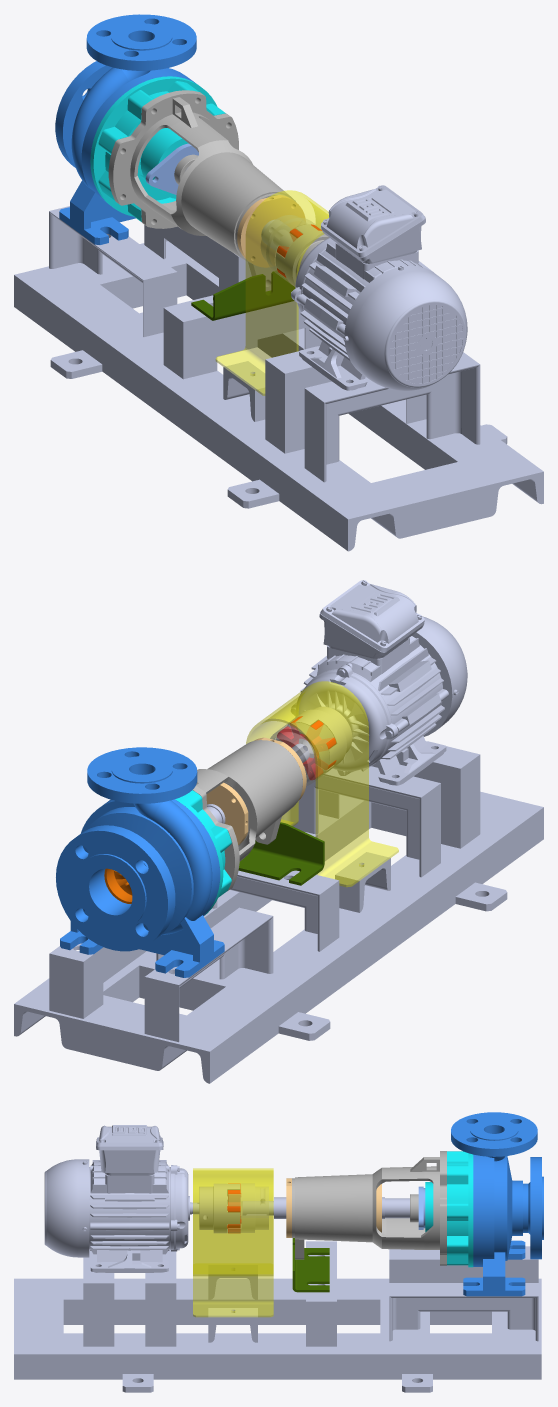
Rendered from bomba.glb.
The picture shows the model from 3 angles, top to bottom: view 1: azimuth 30°, elevation 25°; view 2: azimuth 150°, elevation 25°; view 3: azimuth 270°, elevation 25°; orthographic projection. The views are drawn at different scales.
Visible parts, largest first — view 1: moteur_wftp2-1_146b3t-1, DIN 1026-1 U80X6X850-1, House_Bearing-1, Pump_Casing-1, Pump_Protection-1, DIN 1026-1 U80X6X850-2, Pump_Coupling-1, DIN 1026-1 U80X6X127.6-2, DIN 1028 L 50x5x101.2-4, DIN 1028 L 50X5X229.2-1, DIN 1028 L 50x5x101.2-6, DIN 1028 L 50X5X80.2-5 (+17 smaller); view 2: Pump_Casing-1, DIN 1026-1 U80X6X850-1, moteur_wftp2-1_146b3t-1, Pump_Protection-1, House_Bearing-1, DIN 1026-1 U80X6X850-2, DIN 1026-1 U80X6X127.6-1, Support-1, DIN 1028 L 50X5X229.2-2, DIN 1028 L 50X5X80.2-1, DIN 1028 L 50x5x101.2-5, DIN 1028 L 50x5x101.2-4 (+19 smaller); view 3: DIN 1026-1 U80X6X850-2, moteur_wftp2-1_146b3t-1, Pump_Protection-1, DIN 1026-1 U80X6X850-1, Pump_Casing-1, House_Bearing-1, Pump_Coupling-1, DIN 1028 L 50X5X240.4-1, MirrorDIN 1028 L 50X5X240.4-2, DIN 1028 L 50x5x101.2-6, DIN 1028 L 50x5x101.2-3, DIN 1026-1 U80X6X127.6-2 (+20 smaller).
Part boxes in pixels (box(x1,y1,x2,y2)): moteur_wftp2-1_146b3t-1: box(291, 185, 467, 390); DIN 1026-1 U80X6X850-1: box(14, 264, 402, 551); House_Bearing-1: box(108, 90, 295, 291); Pump_Casing-1: box(55, 14, 196, 244); Pump_Protection-1: box(215, 190, 328, 395); DIN 1026-1 U80X6X850-2: box(166, 241, 543, 516); Pump_Coupling-1: box(90, 76, 225, 221); DIN 1026-1 U80X6X127.6-2: box(371, 462, 489, 537); DIN 1028 L 50x5x101.2-4: box(265, 359, 318, 453); DIN 1028 L 50X5X229.2-1: box(164, 296, 307, 356); DIN 1028 L 50x5x101.2-6: box(426, 365, 480, 444); DIN 1028 L 50X5X80.2-5: box(163, 307, 217, 379); Pump_Casing-1: box(56, 747, 224, 977); DIN 1026-1 U80X6X850-1: box(155, 794, 543, 1083); moteur_wftp2-1_146b3t-1: box(291, 580, 467, 785); Pump_Protection-1: box(246, 681, 398, 887); House_Bearing-1: box(193, 740, 302, 890); DIN 1026-1 U80X6X850-2: box(14, 795, 371, 1048); DIN 1026-1 U80X6X127.6-1: box(68, 995, 186, 1070); Support-1: box(238, 822, 324, 885); DIN 1028 L 50X5X229.2-2: box(310, 766, 440, 818); DIN 1028 L 50X5X80.2-1: box(49, 949, 103, 1018); DIN 1028 L 50x5x101.2-5: box(427, 754, 480, 848); DIN 1028 L 50x5x101.2-4: box(406, 776, 440, 877); DIN 1026-1 U80X6X850-2: box(14, 1333, 541, 1379); moteur_wftp2-1_146b3t-1: box(44, 1125, 199, 1272); Pump_Protection-1: box(193, 1168, 273, 1317); DIN 1026-1 U80X6X850-1: box(14, 1278, 541, 1324); Pump_Casing-1: box(451, 1112, 543, 1296); House_Bearing-1: box(292, 1151, 446, 1265); Pump_Coupling-1: box(425, 1151, 473, 1267); DIN 1028 L 50X5X240.4-1: box(389, 1283, 538, 1311); MirrorDIN 1028 L 50X5X240.4-2: box(389, 1246, 538, 1282); DIN 1028 L 50x5x101.2-6: box(83, 1281, 114, 1346); DIN 1028 L 50x5x101.2-3: box(145, 1283, 176, 1346); DIN 1026-1 U80X6X127.6-2: box(14, 1299, 63, 1333).
Bounding box in the file's own units: 0.3876 × 0.3772 × 0.8535.
